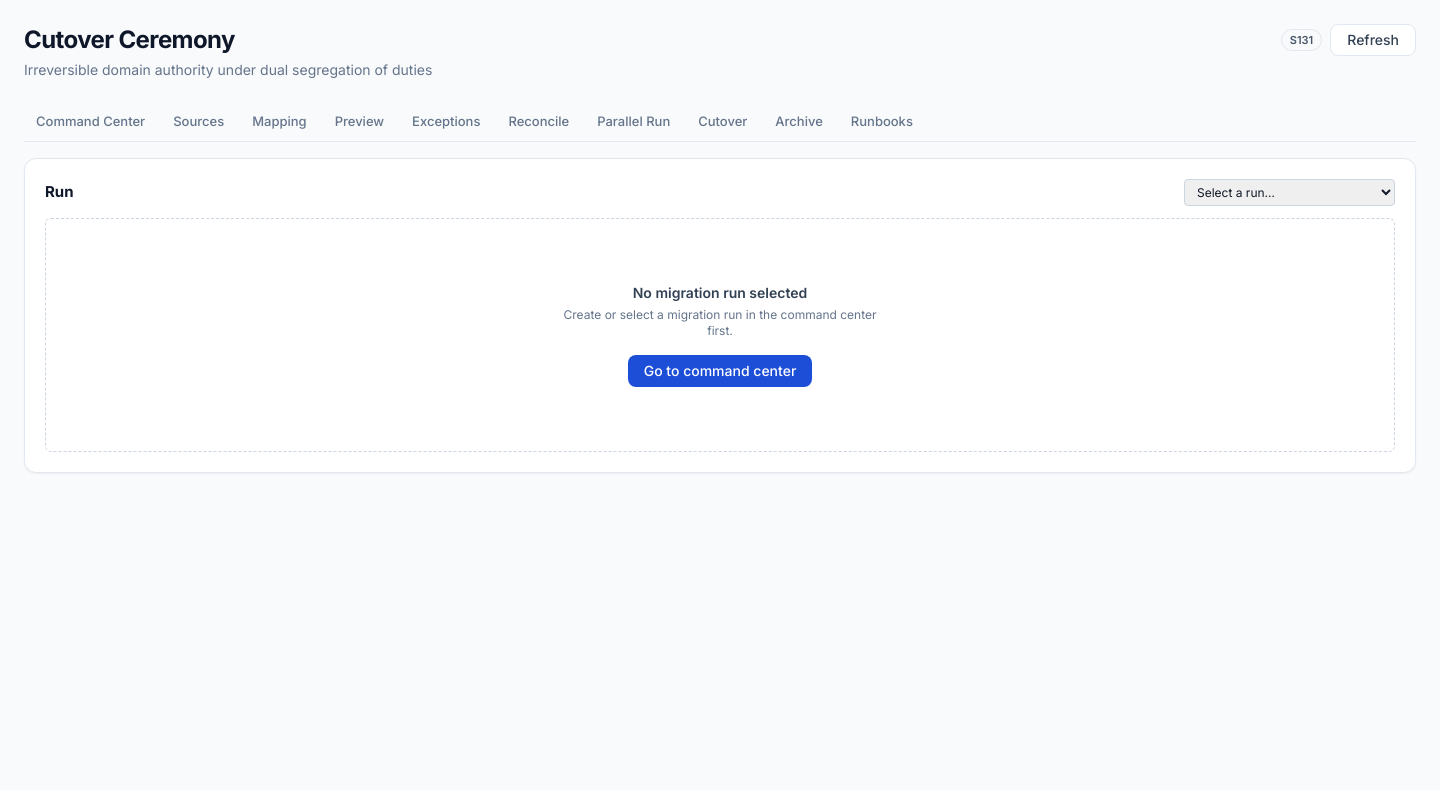
Test: MigrationCutover › states that no ceremony has been prepared yet
This screenshot has width=1440, height=790.
Select "run-a · READY_FOR_CUTOVER" in the dropdown with test id "cutover-run-select" at [1290, 192], box [1184,178,1395,206]
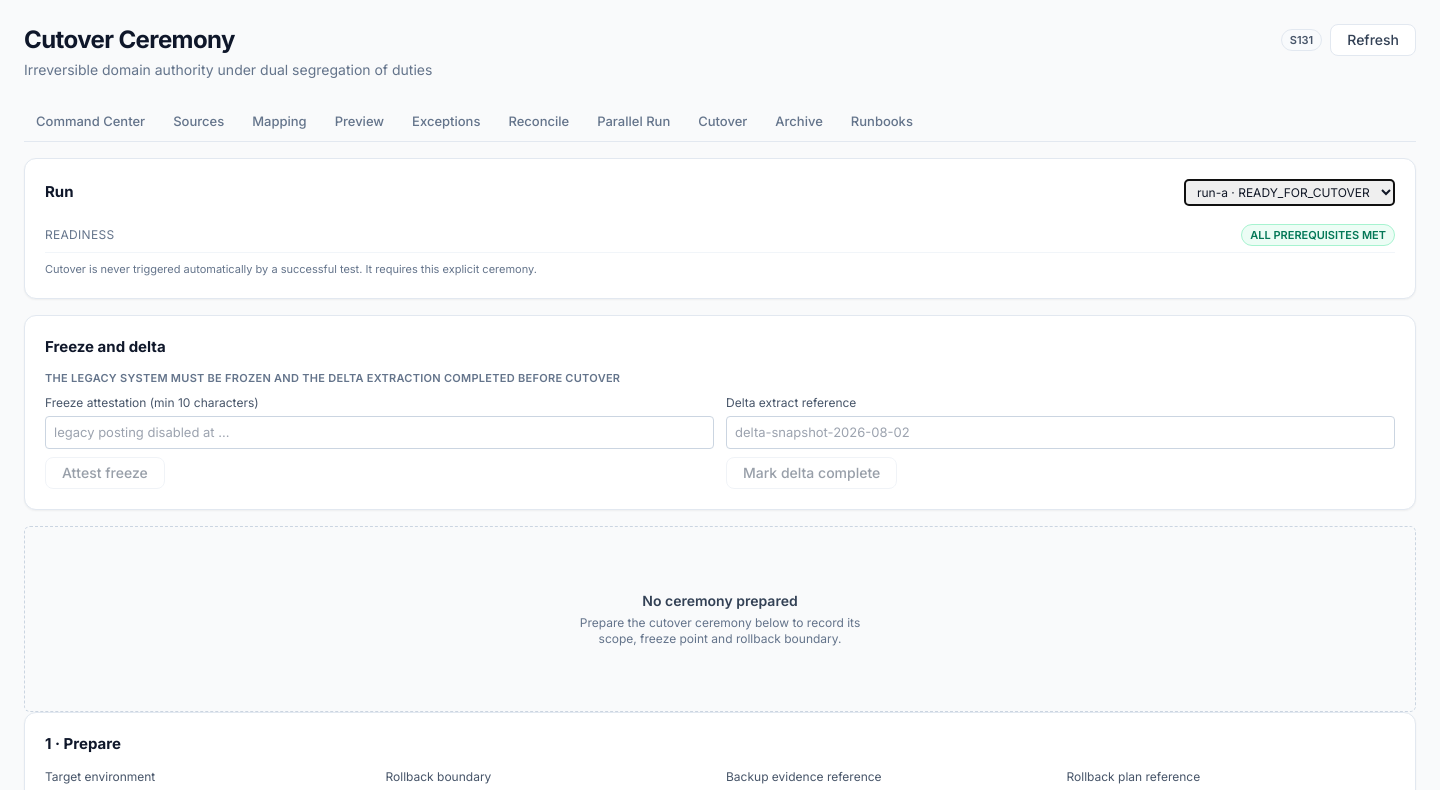
Expected: the element with test id "ceremony-empty" is shown, [24,526,1416,712]
